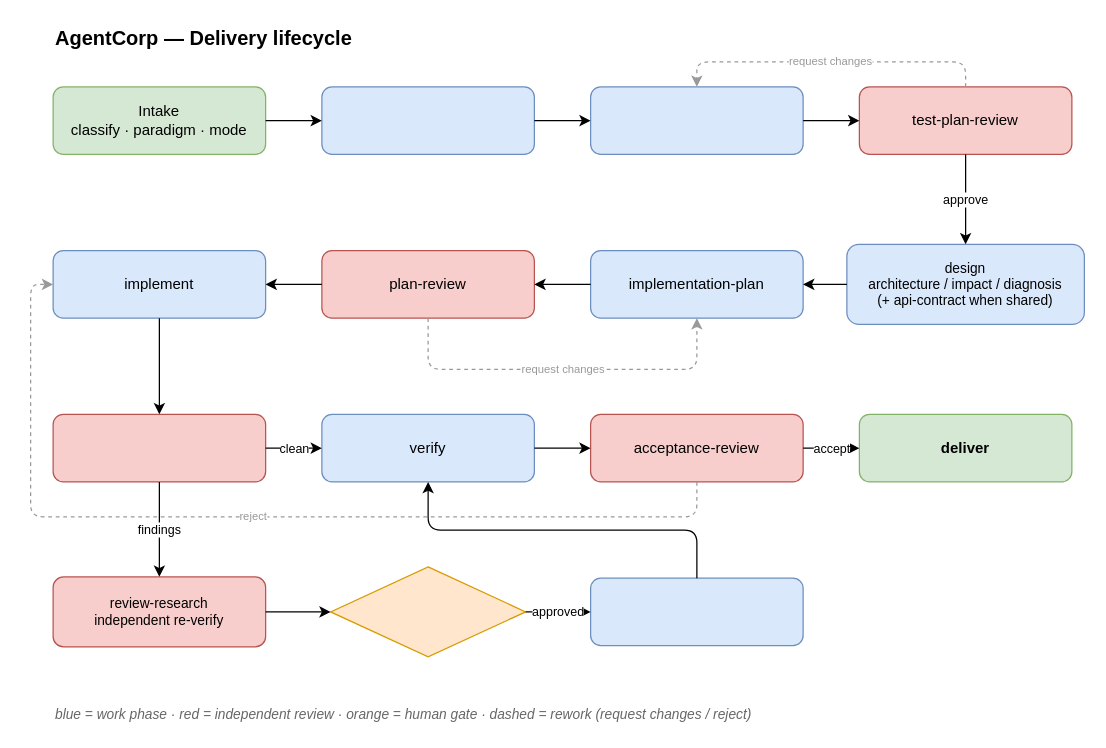
The diagram is 1106 pixels wide and 748 high, and some of its shapes have lost their labels. The box of each missing label's shape, as (x1, y1, x2, y2) in pixels:
code-review: (52, 413, 266, 482)
fix parallel by file: (589, 577, 803, 646)
human gate confirm verdicts: (329, 566, 526, 657)
test-plan: (589, 86, 803, 154)
validate-requirements: (321, 86, 534, 154)
